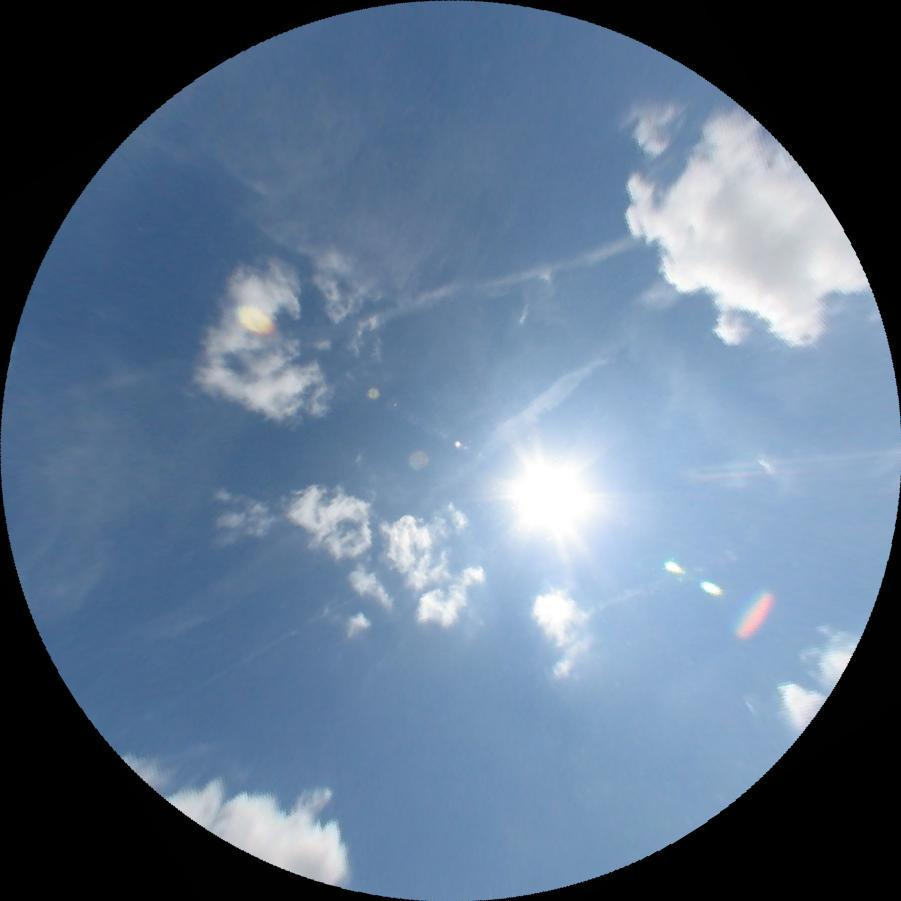contrail veryold: (408, 343, 613, 515), (374, 230, 640, 326)
parasite: (105, 591, 360, 741)
sun: (514, 450, 592, 524)
